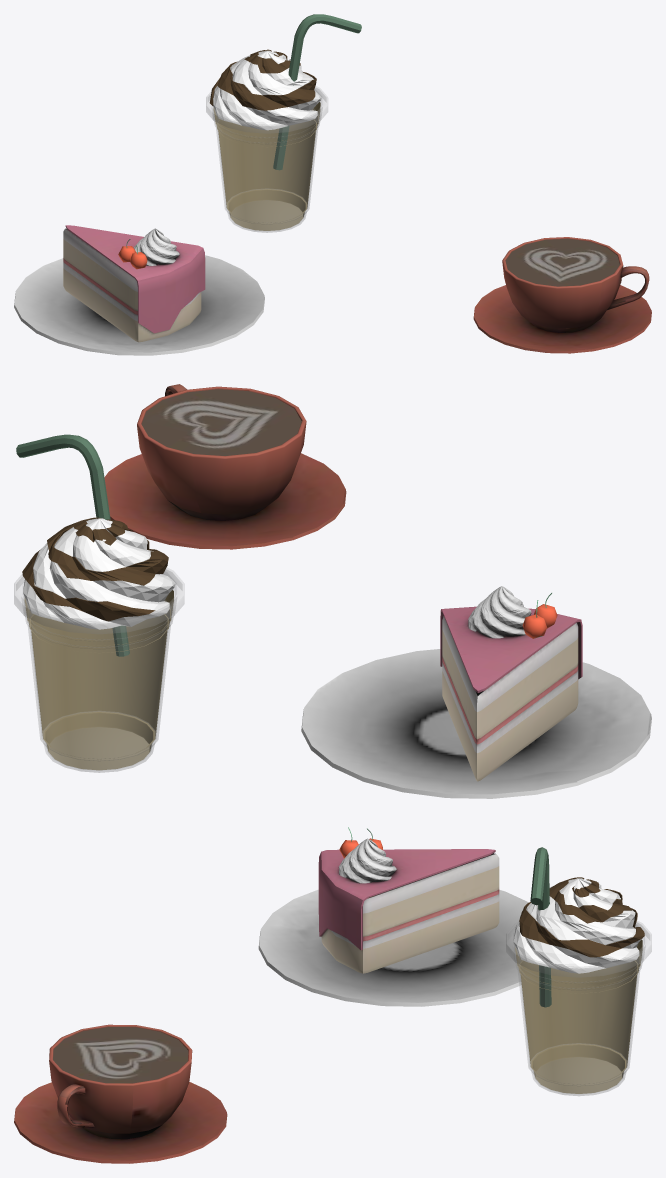
Rendered from cakes2.glb.
3 renders of one model, top to bottom at view 1: azimuth 30°, elevation 25°; view 2: azimuth 150°, elevation 25°; view 3: azimuth 270°, elevation 25°, orthographic. The views are drawn at different scales.
Visible parts, largest first — view 1: Gengon001, cup_so_low012, Cylinder072, cup_low, cup_so_low, cake_choco_low, cake_base_low, Line045, cake_cream_low; view 2: Gengon001, cup_so_low012, Cylinder072, cup_low, cake_base_low, cup_so_low, cake_choco_low, Line045, cake_cream_low, chery_low; view 3: Gengon001, cup_so_low012, Cylinder072, cup_low, cake_base_low, cup_so_low, cake_choco_low, cake_cream_low, Line045.
Boxes of the visible parts, x1=… form: Gengon001: x1=126, y1=49, x2=321, y2=253; cup_so_low012: x1=14, y1=255, x2=264, y2=355; Cylinder072: x1=206, y1=86, x2=327, y2=232; cup_low: x1=502, y1=237, x2=649, y2=332; cup_so_low: x1=473, y1=285, x2=651, y2=353; cake_choco_low: x1=65, y1=225, x2=205, y2=333; cake_base_low: x1=63, y1=228, x2=201, y2=342; Line045: x1=273, y1=14, x2=361, y2=170; cake_cream_low: x1=134, y1=228, x2=179, y2=265; Gengon001: x1=22, y1=517, x2=551, y2=770; cup_so_low012: x1=301, y1=649, x2=651, y2=798; Cylinder072: x1=14, y1=567, x2=184, y2=772; cup_low: x1=137, y1=384, x2=306, y2=520; cake_base_low: x1=442, y1=616, x2=578, y2=781; cup_so_low: x1=104, y1=453, x2=346, y2=549; cake_choco_low: x1=440, y1=606, x2=582, y2=692; Line045: x1=16, y1=434, x2=129, y2=656; cake_cream_low: x1=468, y1=586, x2=531, y2=638; chery_low: x1=522, y1=604, x2=557, y2=638; Gengon001: x1=348, y1=827, x2=644, y2=1093; cup_so_low012: x1=258, y1=889, x2=528, y2=1006; Cylinder072: x1=506, y1=921, x2=651, y2=1095; cup_low: x1=49, y1=1024, x2=192, y2=1139; cake_base_low: x1=321, y1=853, x2=499, y2=973; cup_so_low: x1=14, y1=1082, x2=227, y2=1163; cake_choco_low: x1=318, y1=849, x2=495, y2=950; cake_cream_low: x1=338, y1=838, x2=396, y2=883; Line045: x1=530, y1=847, x2=551, y2=1007.
Bounding box in the file's own units: 0.3609 × 0.1453 × 0.3411.
Materials: 13 (12 with a texture image).
